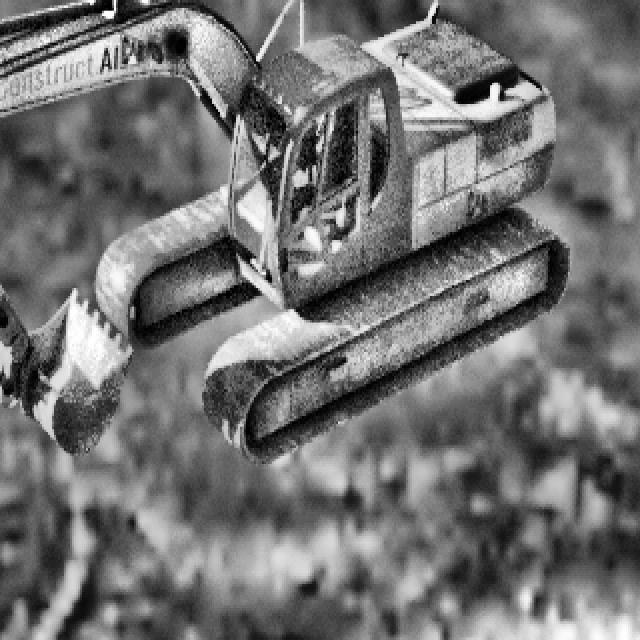excavator: (0, 0, 570, 461)
